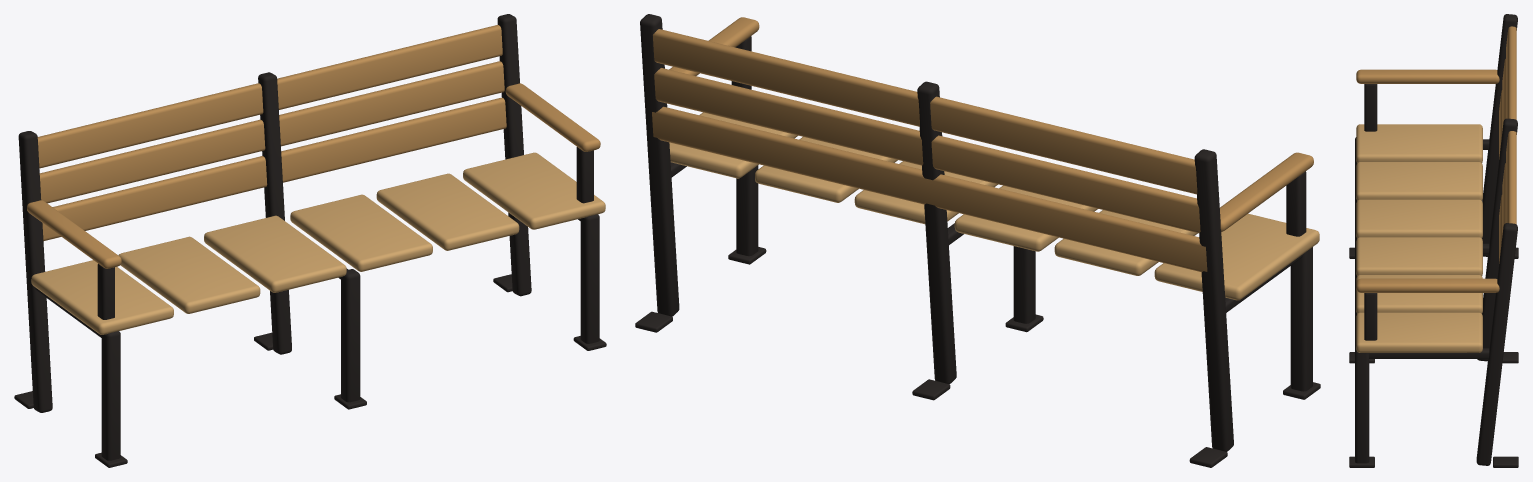
Rendered from bench.glb.
3 views of the same model, side by side, from view 1: azimuth 30°, elevation 25°; view 2: azimuth 150°, elevation 25°; view 3: azimuth 270°, elevation 25° (orthographic). The views are drawn at different scales.
Parts seen in each view (by area): view 1: b_back_2, b_back_1, b_back_0, bench_slat_2, bench_slat_4, bench_slat_3, bench_slat_1, bench_slat_5, bench_slat_0, b_rear_leg, b_rear_leg.001, b_rear_leg.002 (+7 smaller); view 2: b_back_0, b_back_1, b_back_2, b_rear_leg, bench_slat_0, b_rear_leg.002, b_rear_leg.001, b_front_leg, b_arm, bench_slat_2, bench_slat_1, bench_slat_4 (+6 smaller); view 3: bench_slat_2, bench_slat_5, bench_slat_3, bench_slat_1, bench_slat_0, b_rear_leg.002, bench_slat_4, b_rear_leg, b_arm, b_arm.001, b_rear_leg.001, b_back_2 (+11 smaller).
Part boxes in pixels (x1,y1,x2,y2): b_back_2: (37,25,502,168); b_back_1: (39,61,504,203); b_back_0: (42,97,506,241); bench_slat_2: (204,215,346,292); bench_slat_4: (376,173,519,250); bench_slat_3: (290,194,432,271); bench_slat_1: (118,236,260,313); bench_slat_5: (463,152,605,229); bench_slat_0: (31,260,173,334); b_rear_leg: (18,131,52,412); b_rear_leg.001: (258,72,291,354); b_rear_leg.002: (497,14,531,296); b_back_0: (652,106,1207,272); b_back_1: (654,68,1200,233); b_back_2: (653,29,1197,194); b_rear_leg: (1194,149,1233,451); bench_slat_0: (1154,213,1319,300); b_rear_leg.002: (640,14,679,316); b_rear_leg.001: (917,81,956,384); b_front_leg: (1290,247,1312,391); b_arm: (1220,152,1313,231); bench_slat_2: (954,185,1097,251); bench_slat_1: (1054,210,1197,275); bench_slat_4: (755,137,897,202); bench_slat_2: (1356,199,1482,238); bench_slat_5: (1356,312,1482,352); bench_slat_3: (1356,237,1482,275); bench_slat_1: (1356,162,1482,200); bench_slat_0: (1356,124,1482,162); b_rear_leg.002: (1476,223,1517,465); bench_slat_4: (1356,275,1482,313); b_rear_leg: (1482,14,1517,256); b_arm: (1356,69,1499,83); b_arm.001: (1356,278,1499,292); b_rear_leg.001: (1477,118,1517,361); b_back_2: (1506,26,1516,224).
Bounding box in the file's own units: 1.82 × 0.9188 × 0.59.
